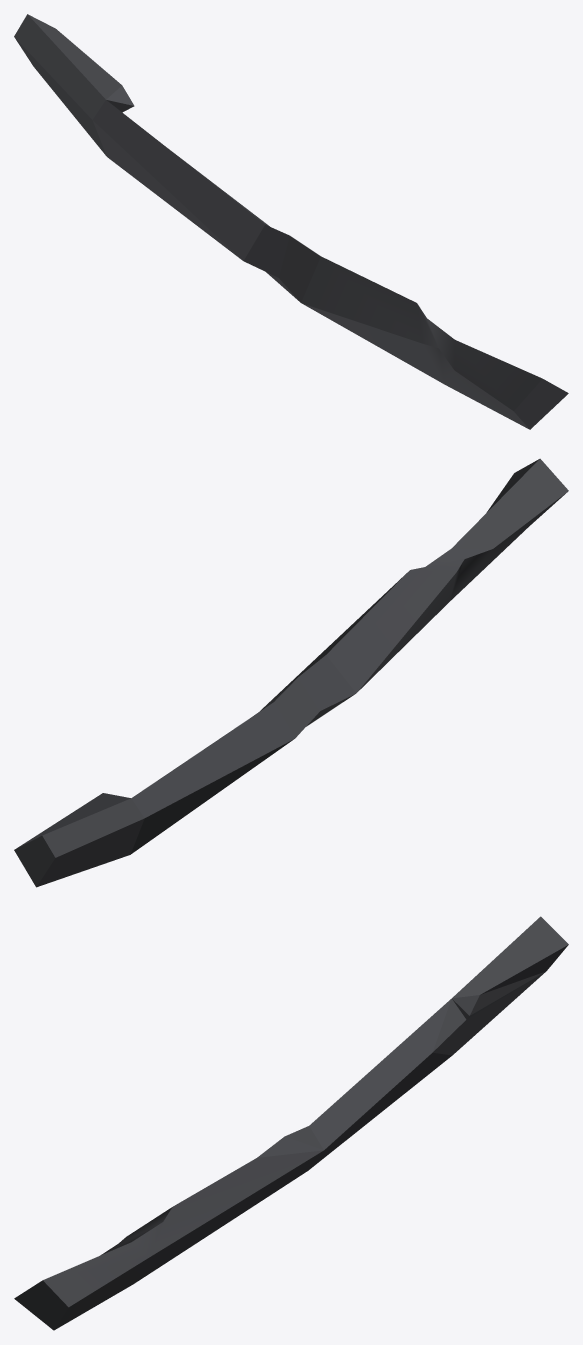
File: SM_L_G_Home_Pillar_roof.fbx
3 views of the same model, one above another, from view 1: azimuth 30°, elevation 25°; view 2: azimuth 150°, elevation 25°; view 3: azimuth 330°, elevation 25° (orthographic).
Parts seen in each view (by area): view 1: SM_L_G_Home_pillar_roof; view 2: SM_L_G_Home_pillar_roof; view 3: SM_L_G_Home_pillar_roof.
Boxes of the visible parts, box(x1,y1,x2,y2) form: SM_L_G_Home_pillar_roof: box(14, 14, 568, 429); SM_L_G_Home_pillar_roof: box(14, 458, 568, 887); SM_L_G_Home_pillar_roof: box(14, 916, 568, 1330).
Size of the model in its own units: 0.3326 by 0.5227 by 5.31.
Materials: 1 (1 with a texture image).
